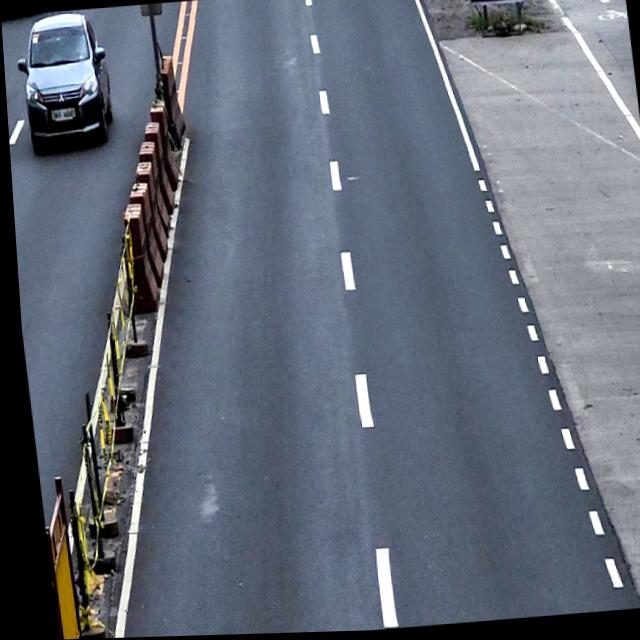Car: (11, 10, 115, 154)
License-Plate: (48, 105, 75, 123)
